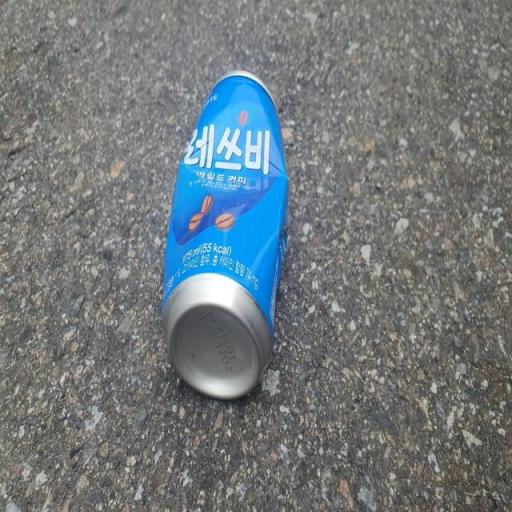metal: (154, 55, 302, 412)
